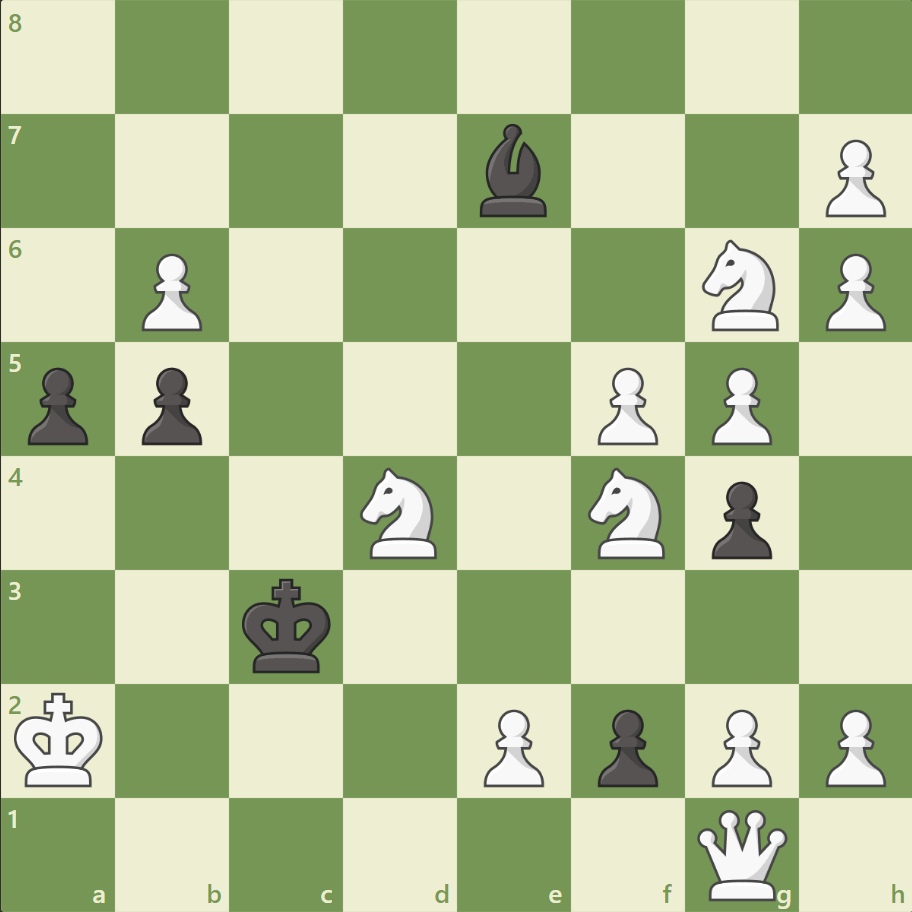K: (11, 685, 111, 793)
N: (351, 461, 449, 564), (692, 234, 789, 337), (579, 461, 676, 564)
P: (133, 246, 208, 337), (701, 359, 776, 450), (474, 700, 549, 791), (701, 700, 776, 791), (815, 132, 889, 223), (815, 246, 889, 337), (588, 359, 662, 450), (815, 700, 889, 791)
Q: (691, 804, 790, 903)
b: (471, 120, 555, 222)
k: (238, 571, 338, 679)
p: (20, 359, 95, 450), (133, 359, 208, 450), (701, 473, 776, 564), (588, 700, 662, 791)
